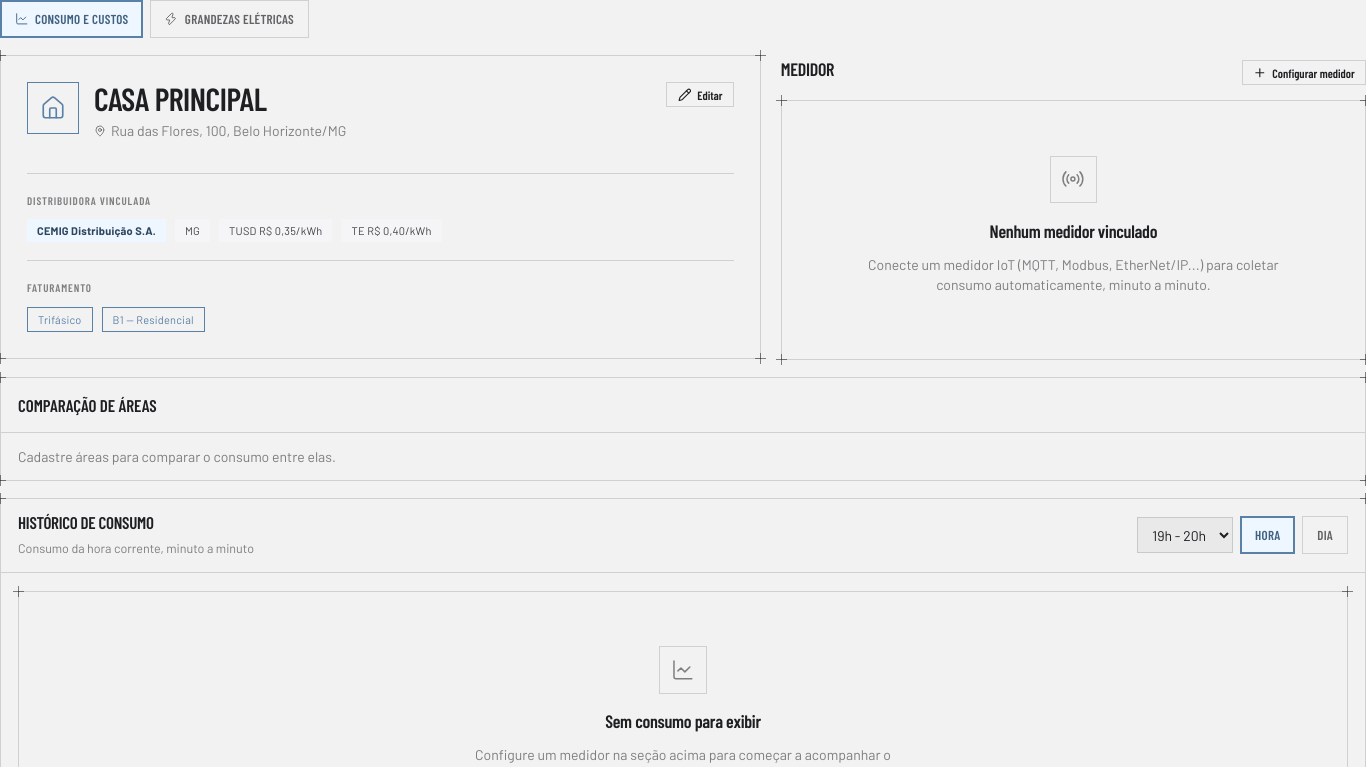
Test: PropertyDetailsPage — header › abre o modal de edição ao clicar em 'Editar' (header)
Click the button "Editar". click: x=700, y=94
box: [666,82,734,107]
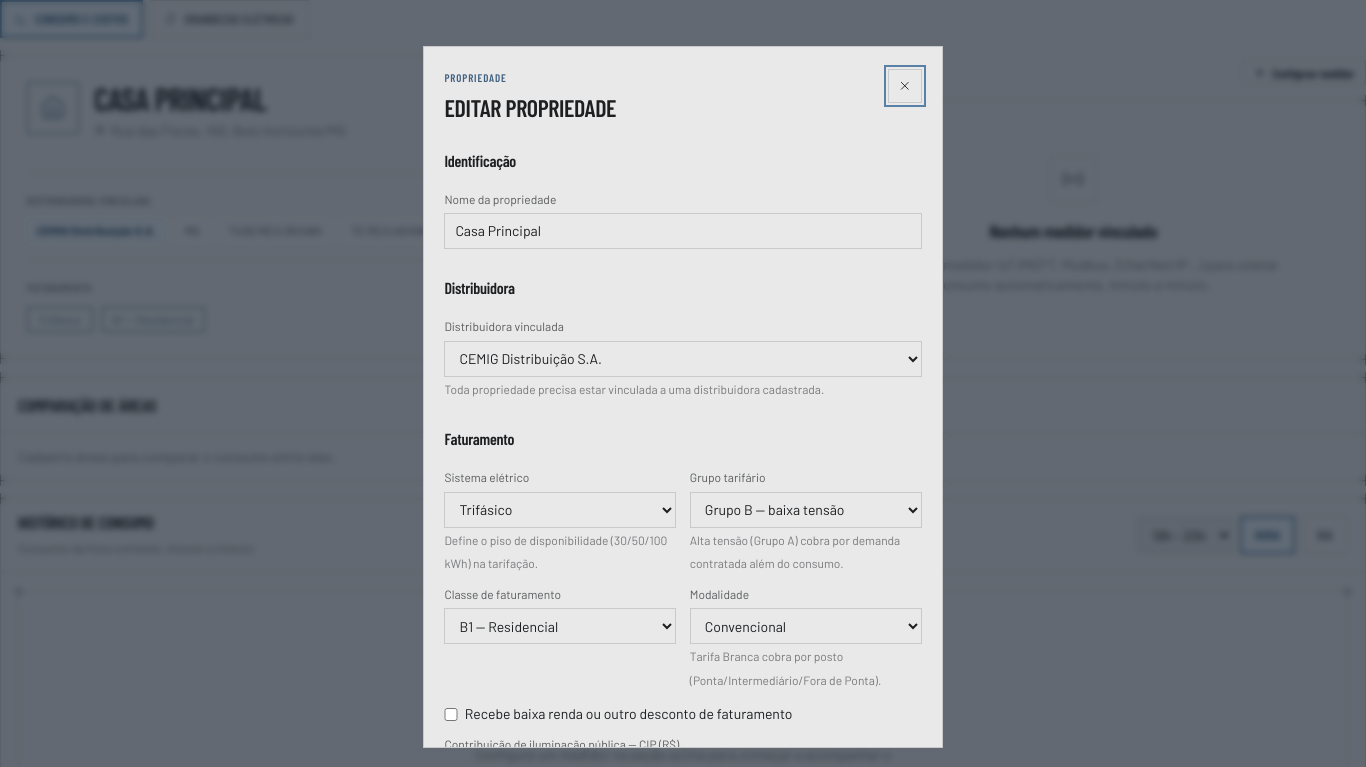
Now the dialog "Editar propriedade" is shown, box [423,46,943,748]
